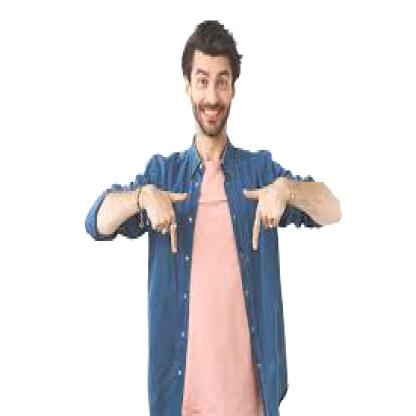Down: (240, 172, 300, 258), (140, 176, 194, 266)
